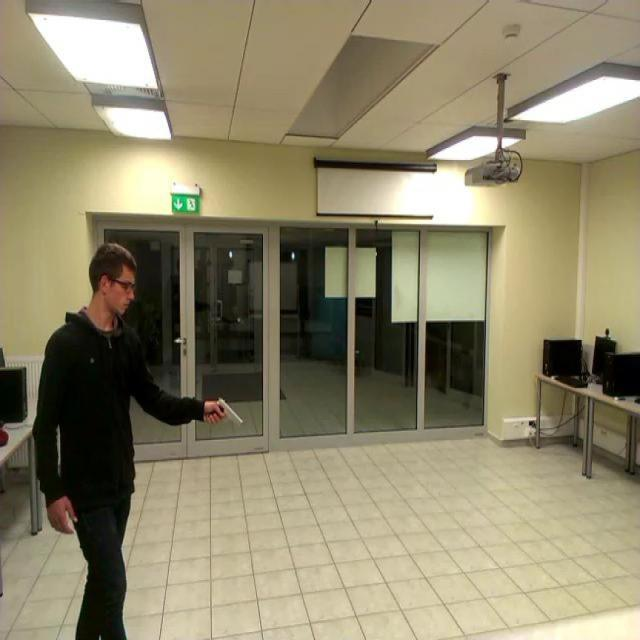pistol: (209, 396, 244, 426)
